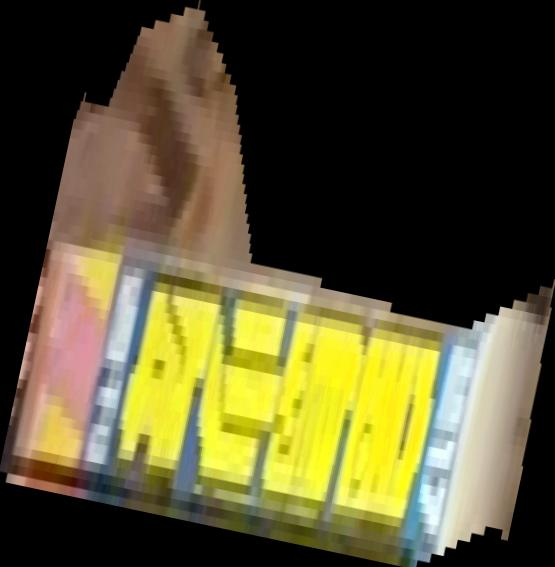flat: (1, 1, 555, 567)
